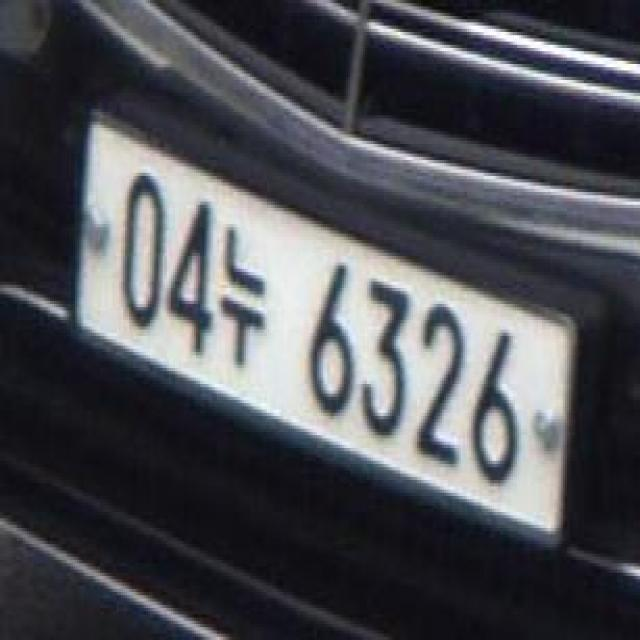illegal_plate: (71, 100, 576, 558)
